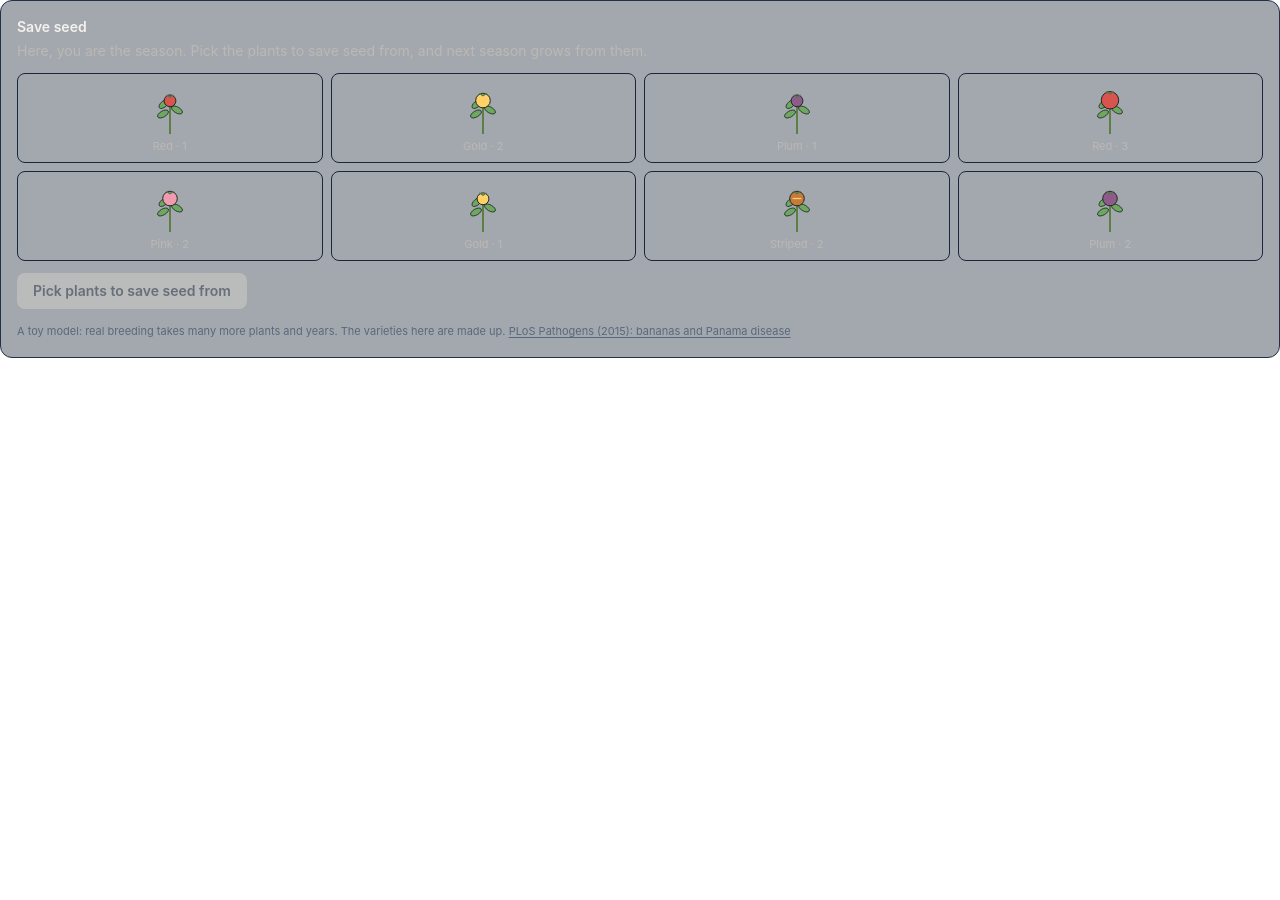
Test: FarmPlay › saves seed from chosen plants and grows the next season
Expected: the button "Pick plants to save seed from" is disabled, x1=17 y1=273 x2=247 y2=309
Click the button with aria-label "Red, fruit size 3" at (1110, 118), box x1=958 y1=73 x2=1263 y2=163
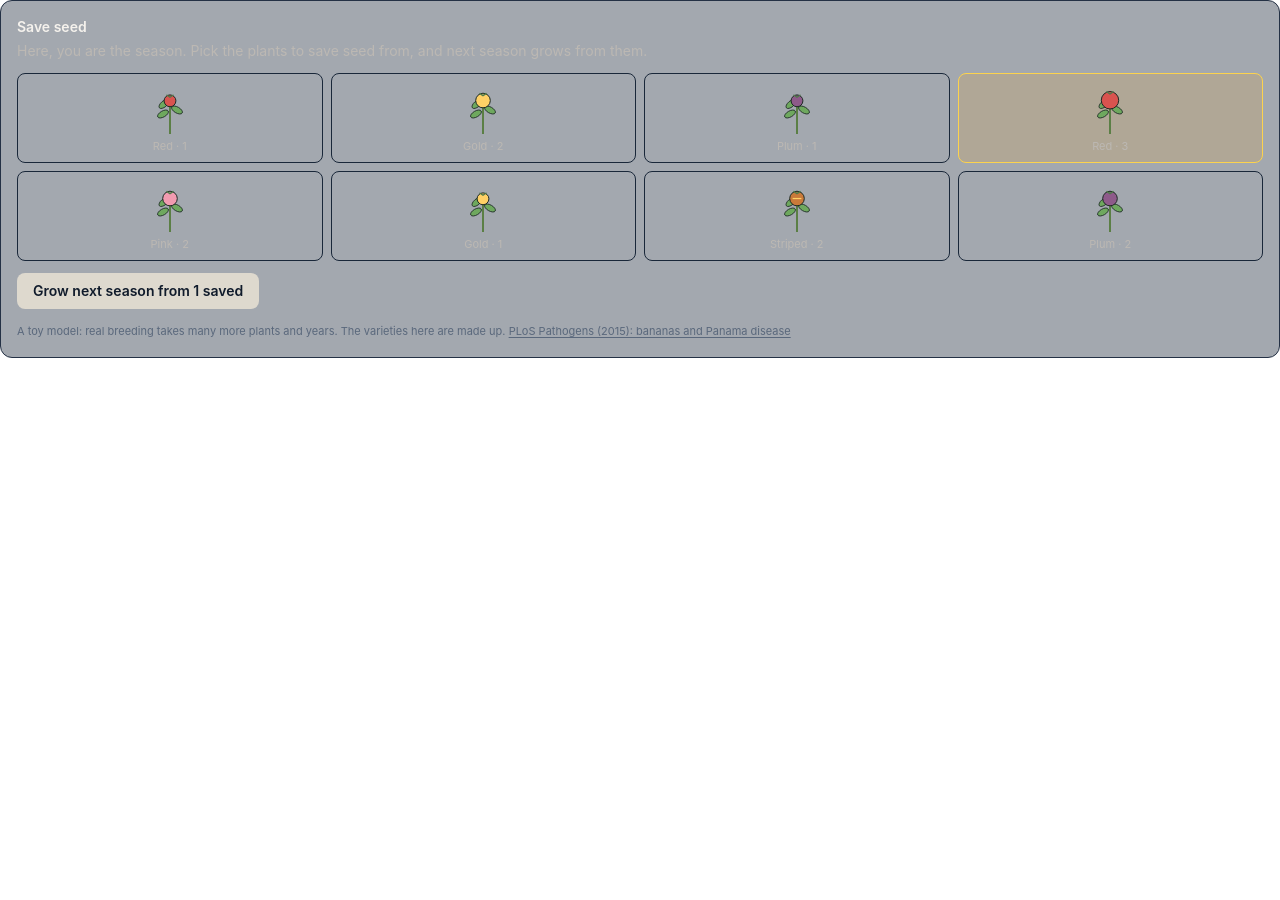
Click the button "Grow next season from 1 saved" at (138, 291), box x1=17 y1=273 x2=259 y2=309
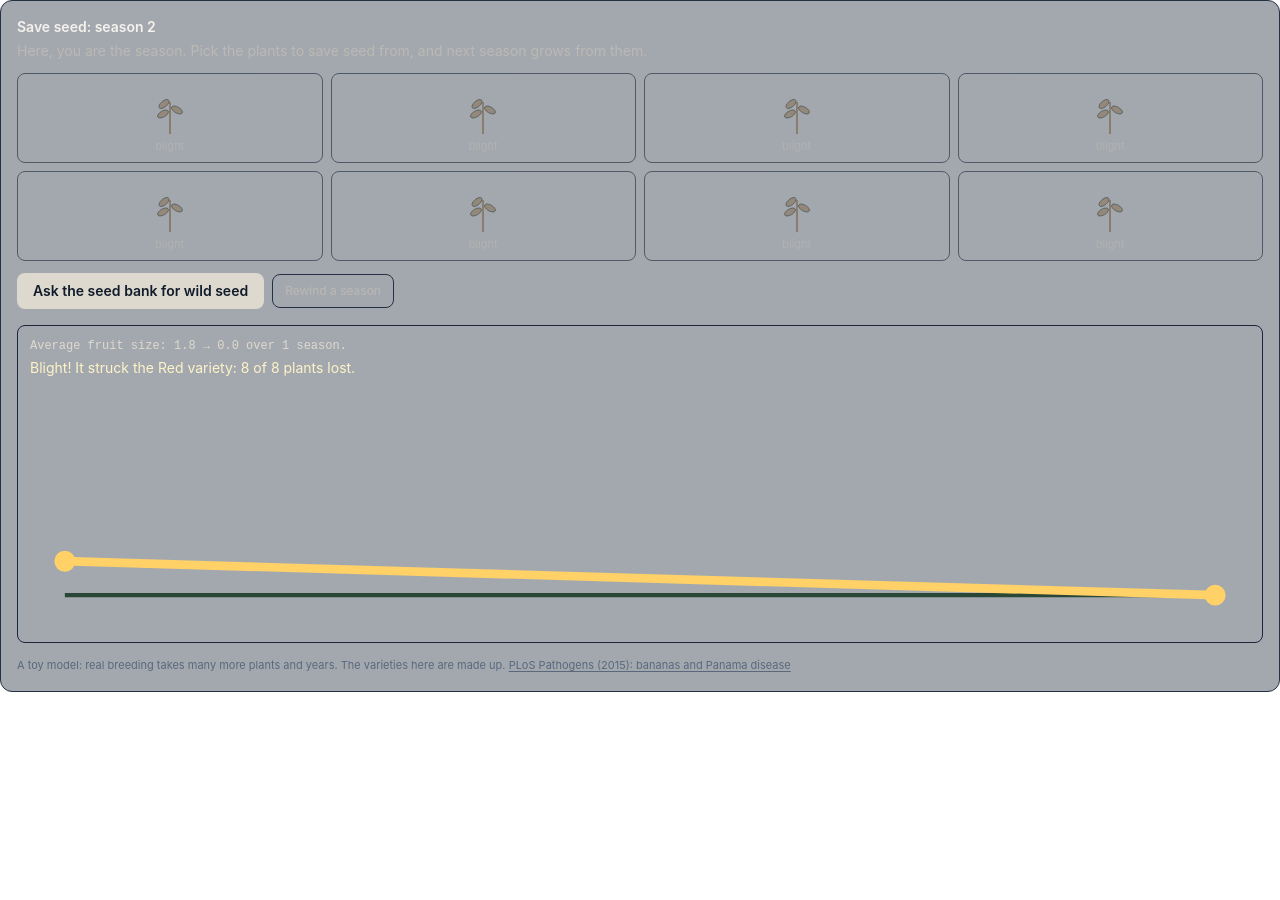
Result: the text "Average fruit size: 1.8 → 0.0 over 1 season." is shown at x1=30 y1=339 x2=347 y2=353
Click the button "Rewind a season" at (333, 291), box x1=272 y1=274 x2=394 y2=308
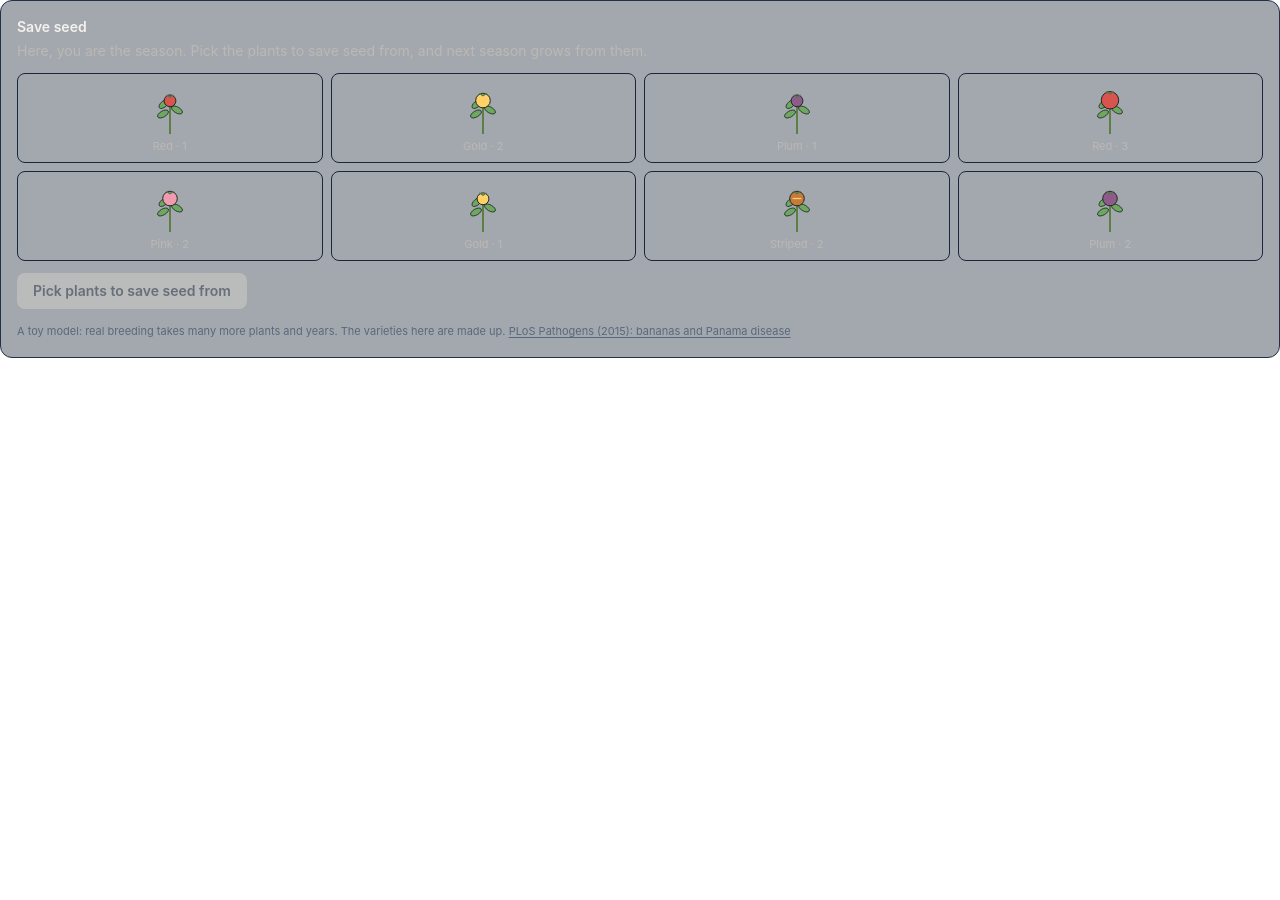
Result: the text "Average fruit size" is gone
